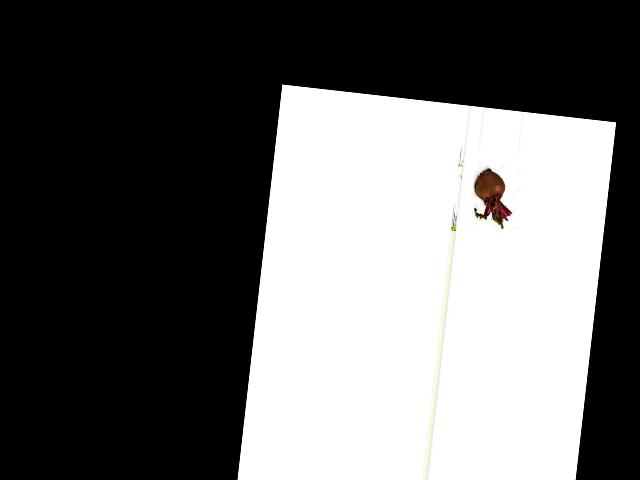beet: (471, 166, 516, 229)
